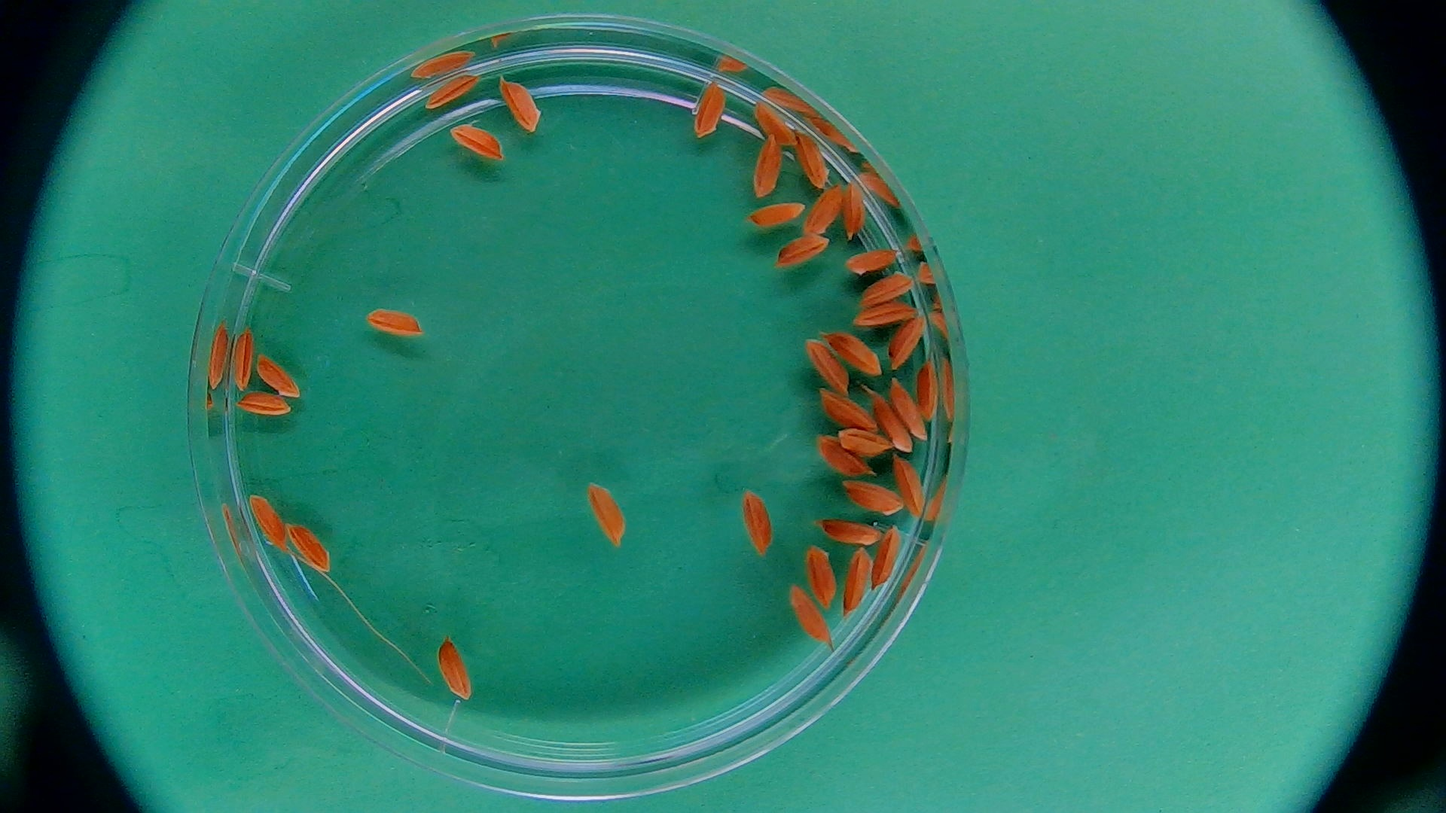no: (812, 431, 878, 484), (820, 324, 885, 377), (865, 389, 915, 454), (817, 382, 876, 437), (283, 519, 335, 580), (786, 587, 834, 653), (886, 375, 930, 447), (885, 457, 931, 525), (798, 339, 850, 399), (242, 489, 288, 556), (255, 347, 310, 403), (842, 475, 903, 520), (890, 311, 935, 371), (586, 480, 628, 544), (802, 537, 838, 610), (850, 271, 929, 304), (748, 100, 799, 149), (501, 78, 544, 136), (749, 129, 785, 198), (688, 78, 728, 140), (740, 489, 776, 556), (847, 538, 877, 617), (868, 524, 902, 593), (913, 360, 947, 429), (422, 74, 482, 113), (793, 131, 829, 193), (838, 245, 903, 279), (232, 387, 295, 422), (820, 515, 883, 550), (438, 640, 474, 701), (450, 125, 506, 161), (225, 328, 255, 390), (837, 428, 897, 458), (367, 308, 421, 341), (850, 304, 925, 327), (779, 234, 828, 269), (745, 199, 804, 228)
